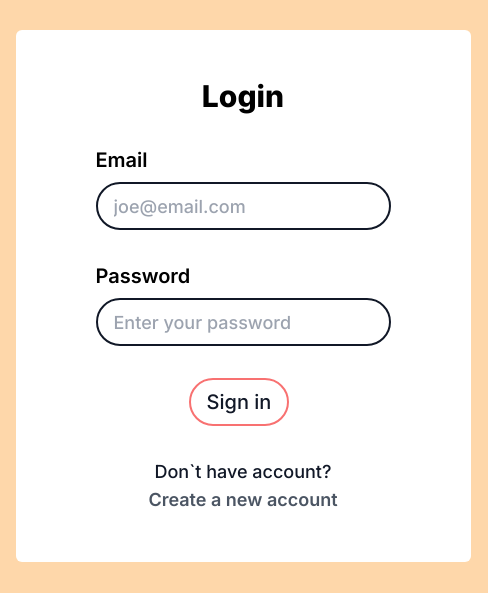
Scenario: Sneakers test › Login: Registration button
Expected: the heading "Login" is shown, 202,78 -> 284,114
Click the link with test id "registration-link" at (243, 472), box 149,461 -> 338,510
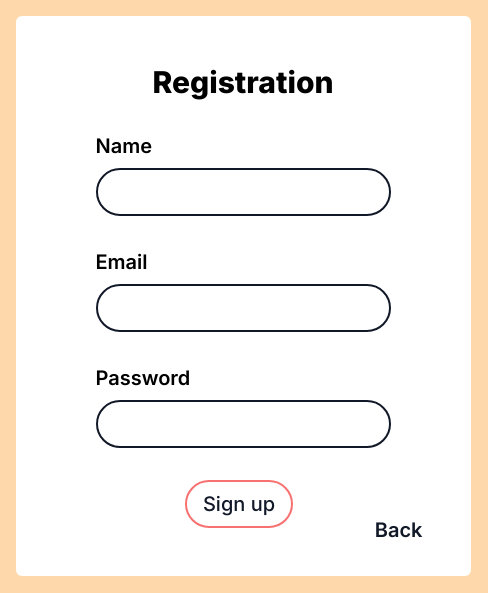
Now the heading "Registration" is shown, box 152,64 -> 334,100
